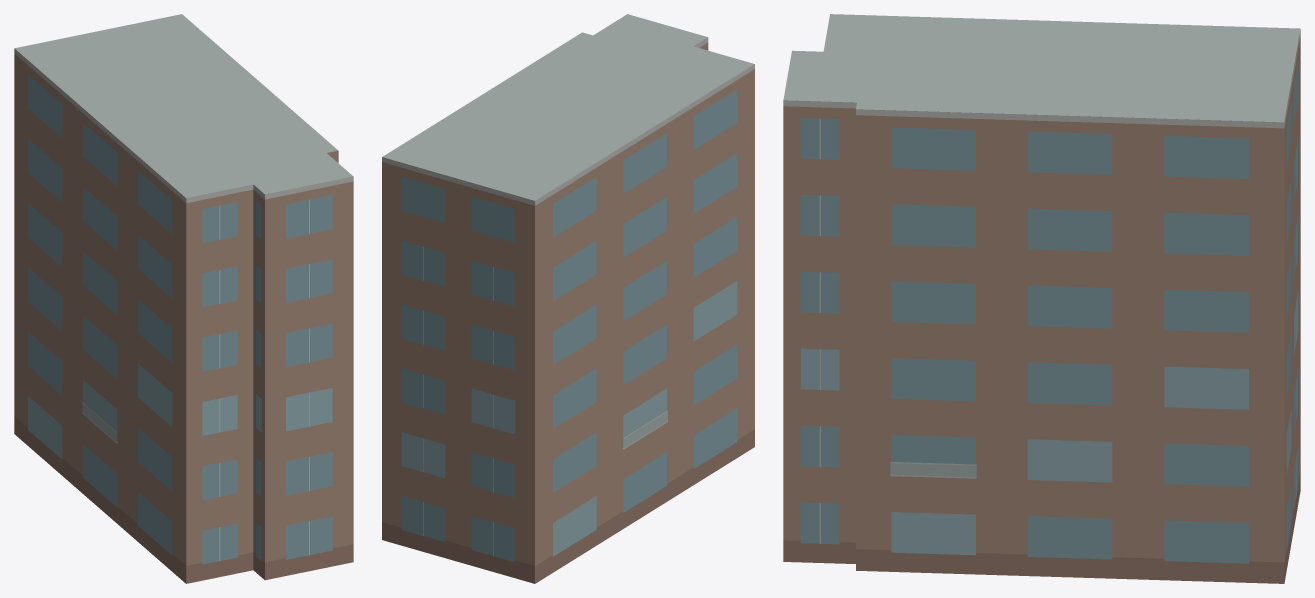
Rendered from survey-upis-32665485.glb.
3 views of the same model, side by side, from view 1: azimuth 30°, elevation 25°; view 2: azimuth 150°, elevation 25°; view 3: azimuth 270°, elevation 25° (orthographic). The views are drawn at different scales.
Visible parts, largest first — view 1: survey-upis-32665485.tmp; view 2: survey-upis-32665485.tmp; view 3: survey-upis-32665485.tmp.
Part boxes in pixels (x1,y1,x2,y2): survey-upis-32665485.tmp: (14,14,353,583); survey-upis-32665485.tmp: (382,14,754,583); survey-upis-32665485.tmp: (783,14,1300,583).
Size of the model in its own units: 9.48 by 18.8 by 19.11.
